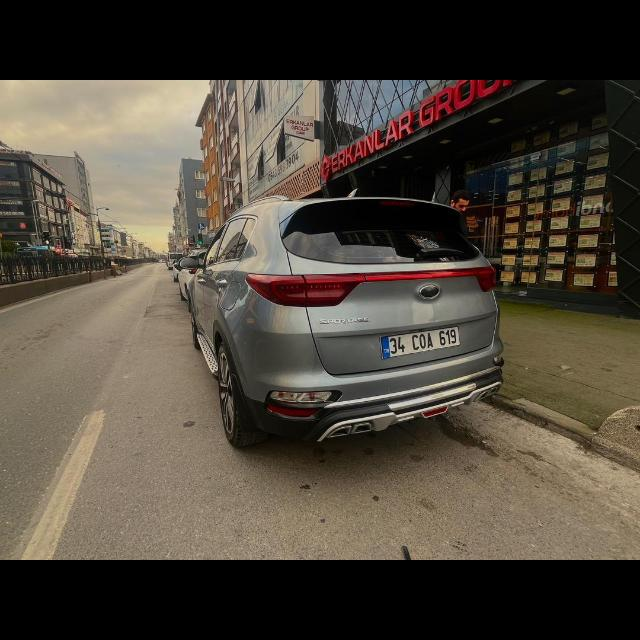Plaka: (381, 327, 459, 359)
